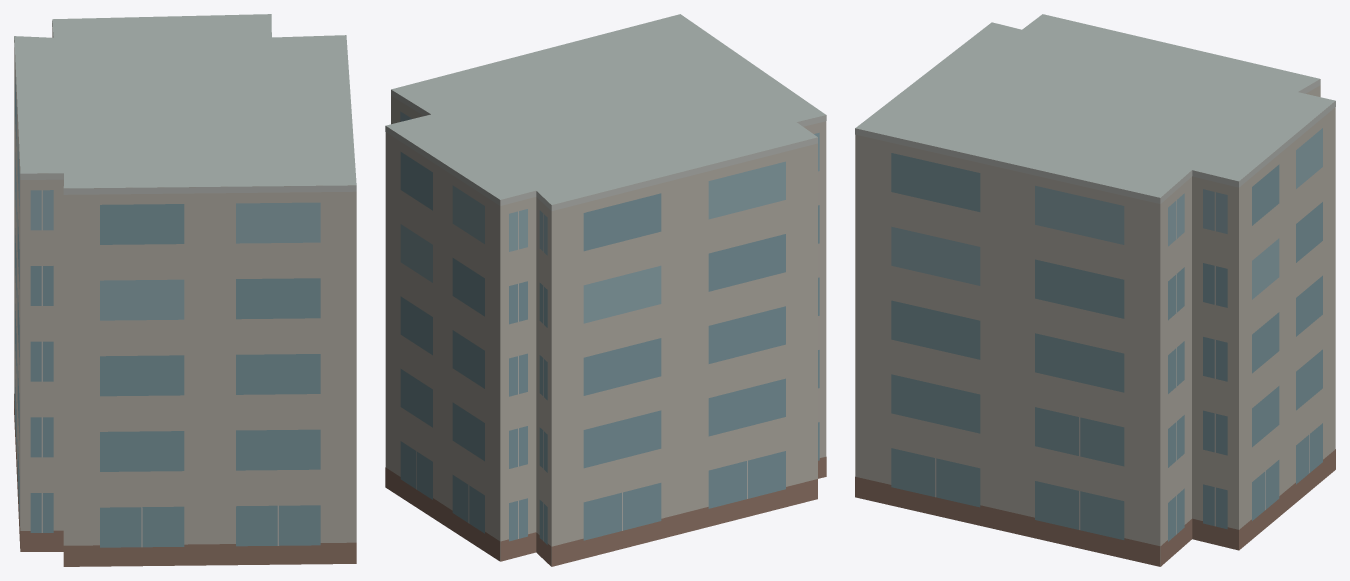
File: survey-upis-32877787.glb
The picture shows the model from 3 angles, left to right: view 1: azimuth 30°, elevation 25°; view 2: azimuth 150°, elevation 25°; view 3: azimuth 270°, elevation 25°; orthographic projection. The views are drawn at different scales.
Parts seen in each view (by area): view 1: survey-upis-32877787.tmp; view 2: survey-upis-32877787.tmp; view 3: survey-upis-32877787.tmp.
Part boxes in pixels (left/top/right/bottom): survey-upis-32877787.tmp: left=14, top=14, right=356, bottom=566; survey-upis-32877787.tmp: left=385, top=14, right=826, bottom=566; survey-upis-32877787.tmp: left=855, top=14, right=1335, bottom=566.
Size of the model in its own units: 15.38 by 14.38 by 16.98.
